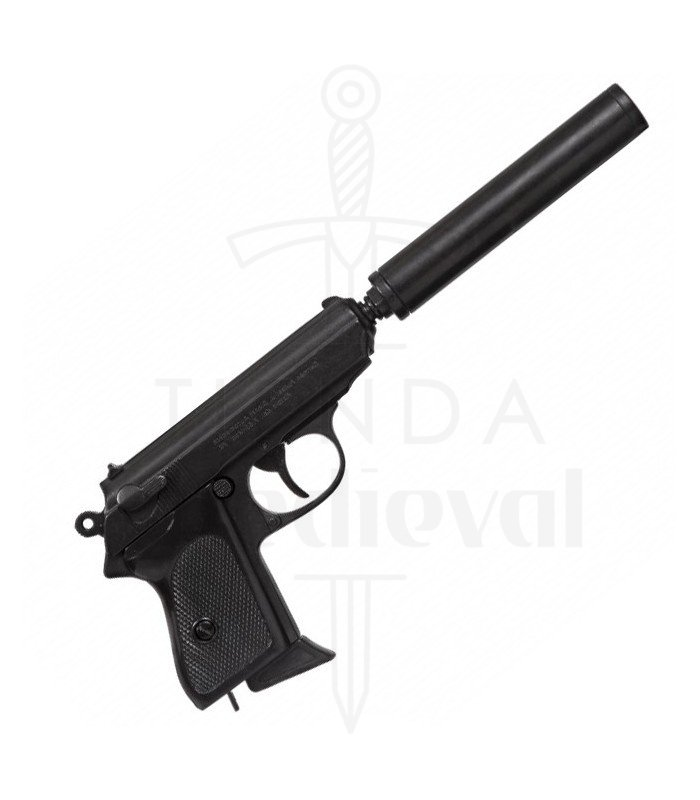Arma Real: (66, 83, 654, 711)
